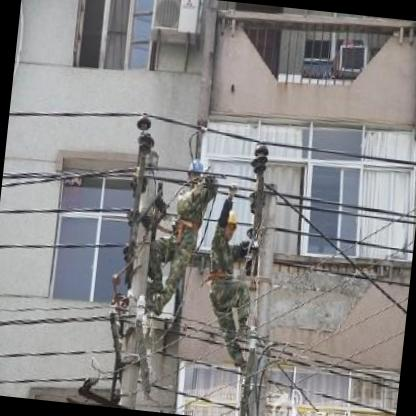helmet: (184, 154, 209, 196), (217, 204, 242, 242)
